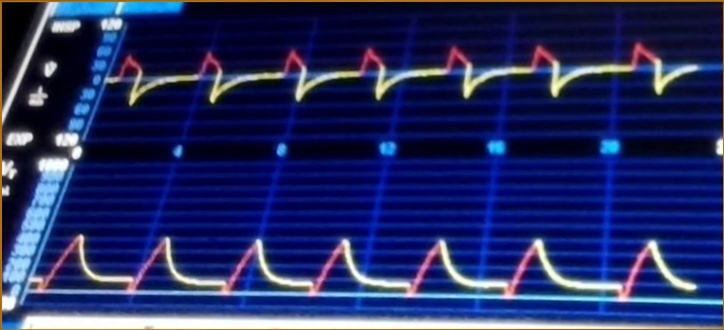Flow: (116, 29, 698, 135)
Leakage Volume: (33, 217, 690, 312)
